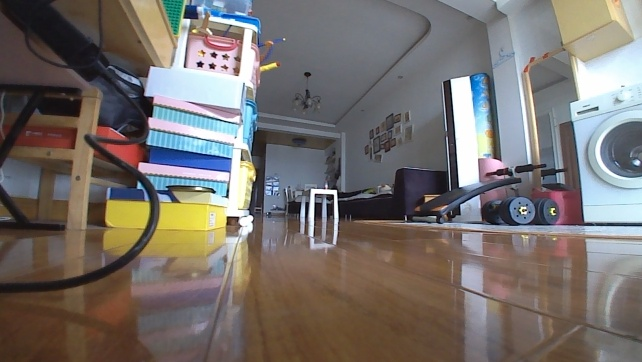sofa: (285, 165, 449, 220)
washing_machine: (567, 78, 641, 228)
wire: (0, 0, 162, 301)
